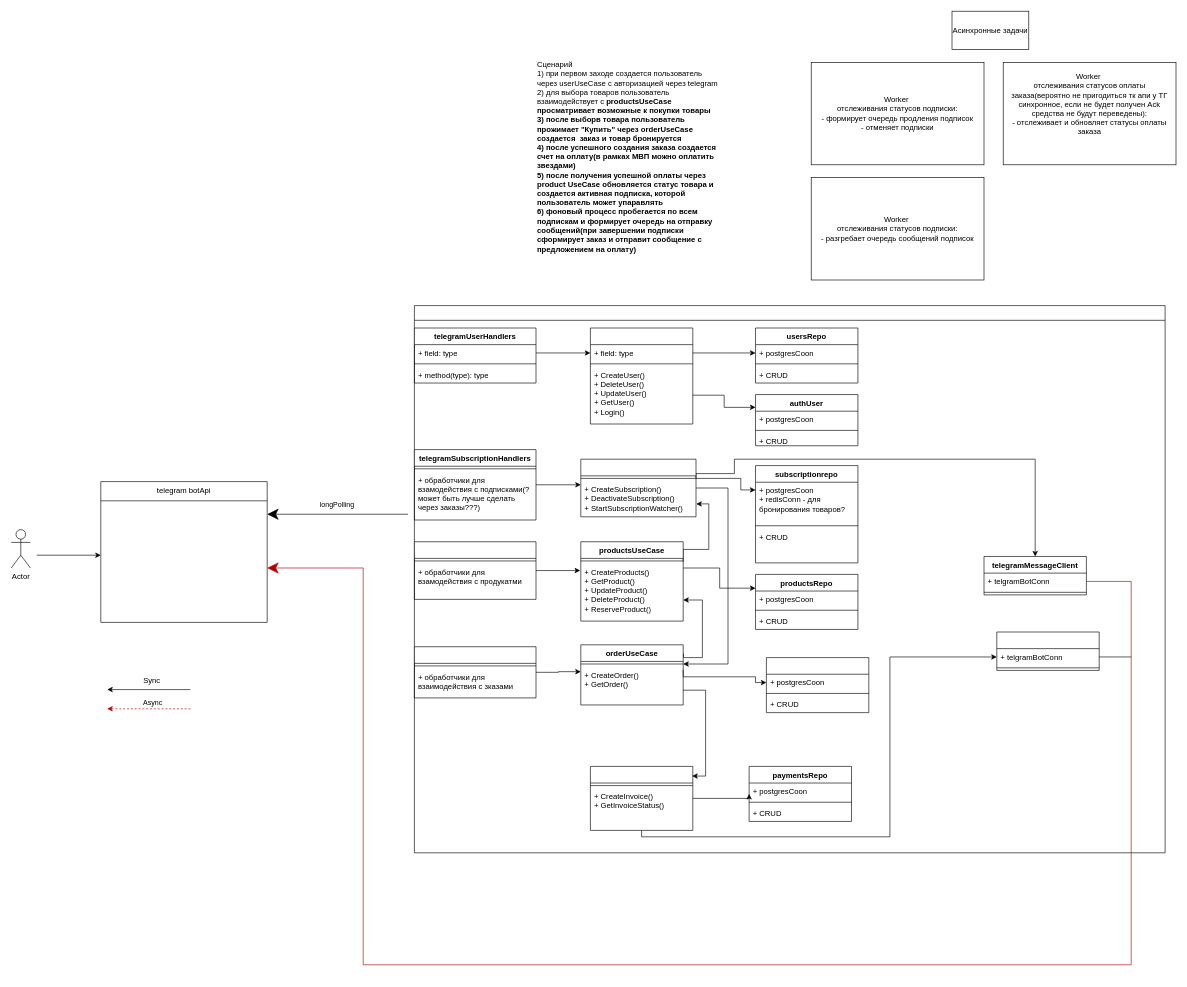
Some shapes in this 1187 by 987 pixel diagram are drawn without their labels. The box of each missing label's shape, as (x1, y1, x2, y2) in pixels:
orderRepo: (766, 657, 869, 713)
paymentsUseCase: (590, 766, 693, 830)
subscriptionUseCase: (580, 459, 696, 517)
telegramOrderHandlers: (414, 646, 536, 698)
telegramPaymentClient: (996, 631, 1099, 670)
telegramProductHandlers: (414, 541, 536, 599)
usersUseCase: (590, 327, 693, 424)
Vertical Container: (414, 305, 1165, 853)
